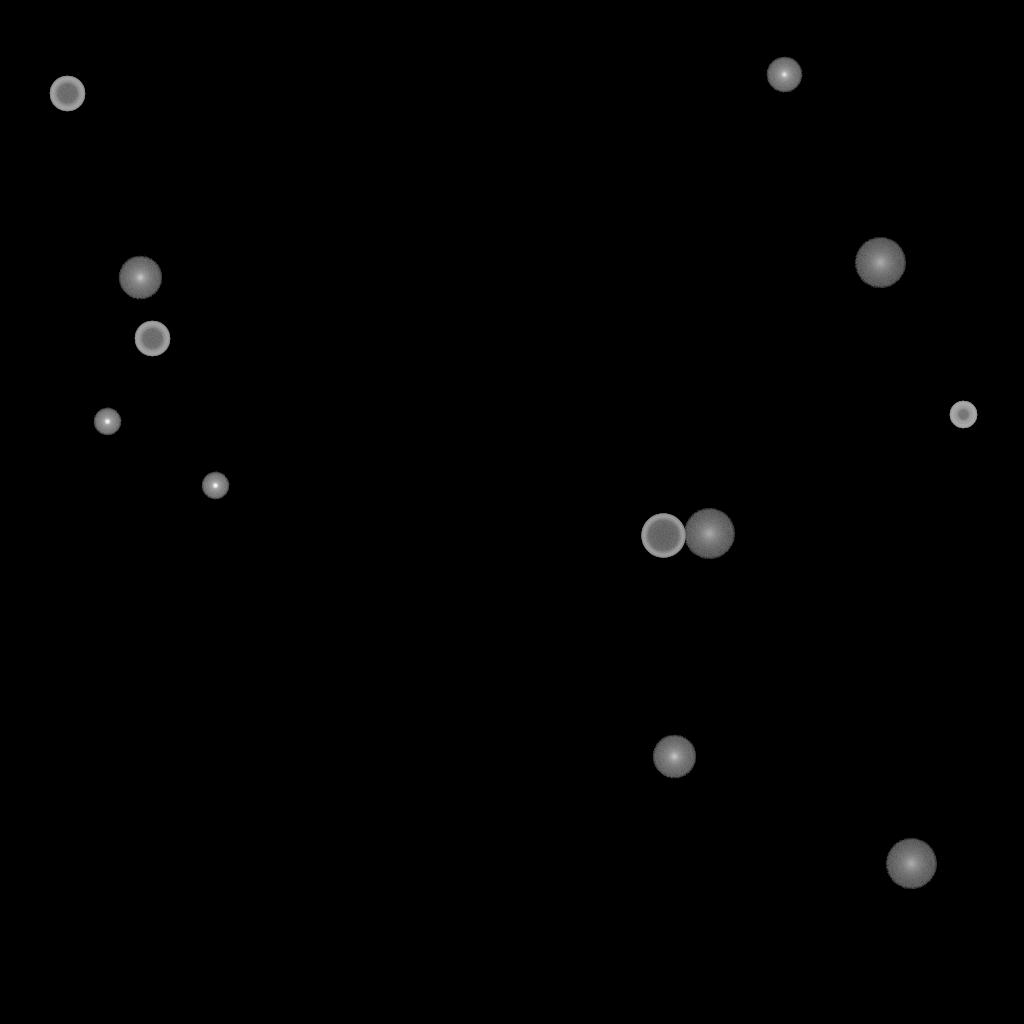depth:-10: (93, 408, 121, 436), (201, 472, 229, 500)
depth:-50: (949, 401, 977, 429)
depth:-60: (134, 321, 170, 357), (49, 76, 85, 112)
depth:-70: (641, 514, 685, 558)
depth:0: (766, 57, 802, 93)
depth:10: (118, 256, 162, 300), (652, 735, 696, 779)
depth:20: (683, 509, 735, 559), (854, 238, 906, 288), (885, 839, 937, 889)
